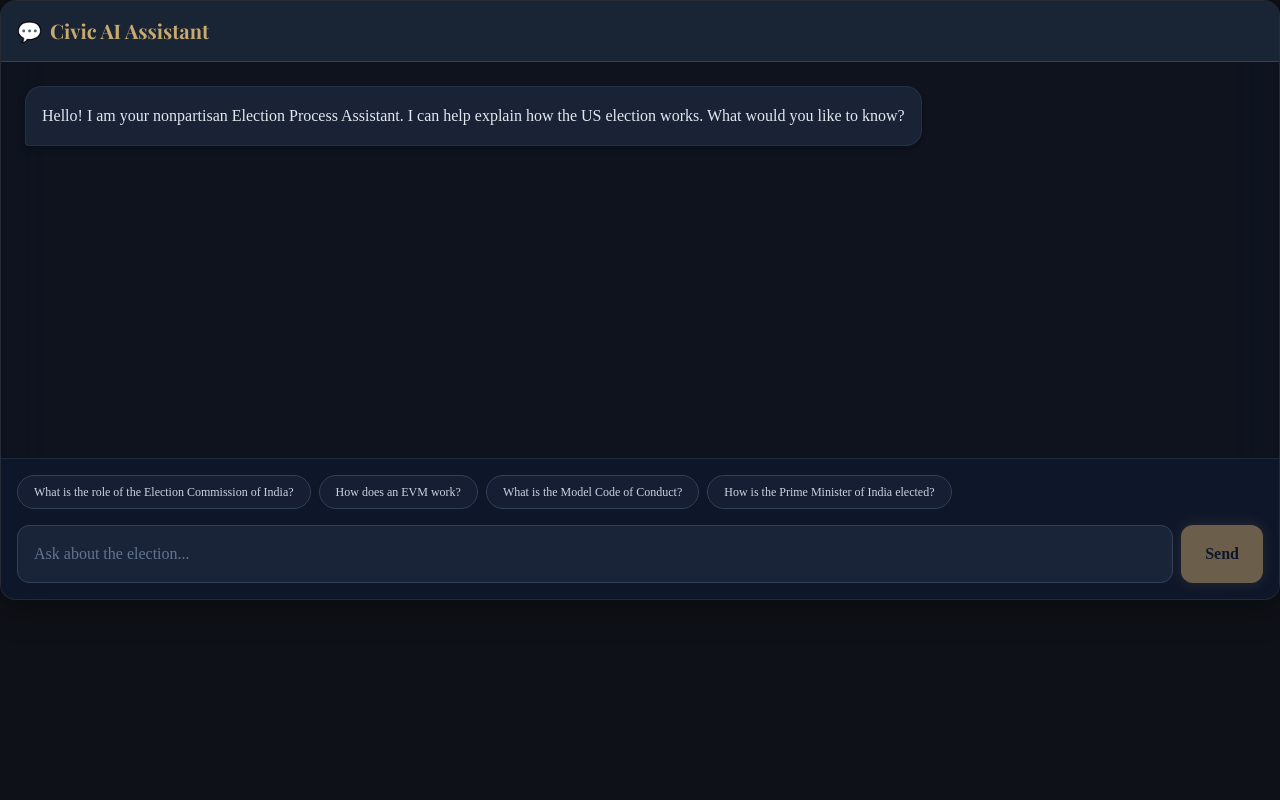
Test: Chat Component › sends a message when Send button is clicked
In the field with placeholder "Ask about the election...": (595, 554) [17, 525, 1173, 583], type "How does it work?"
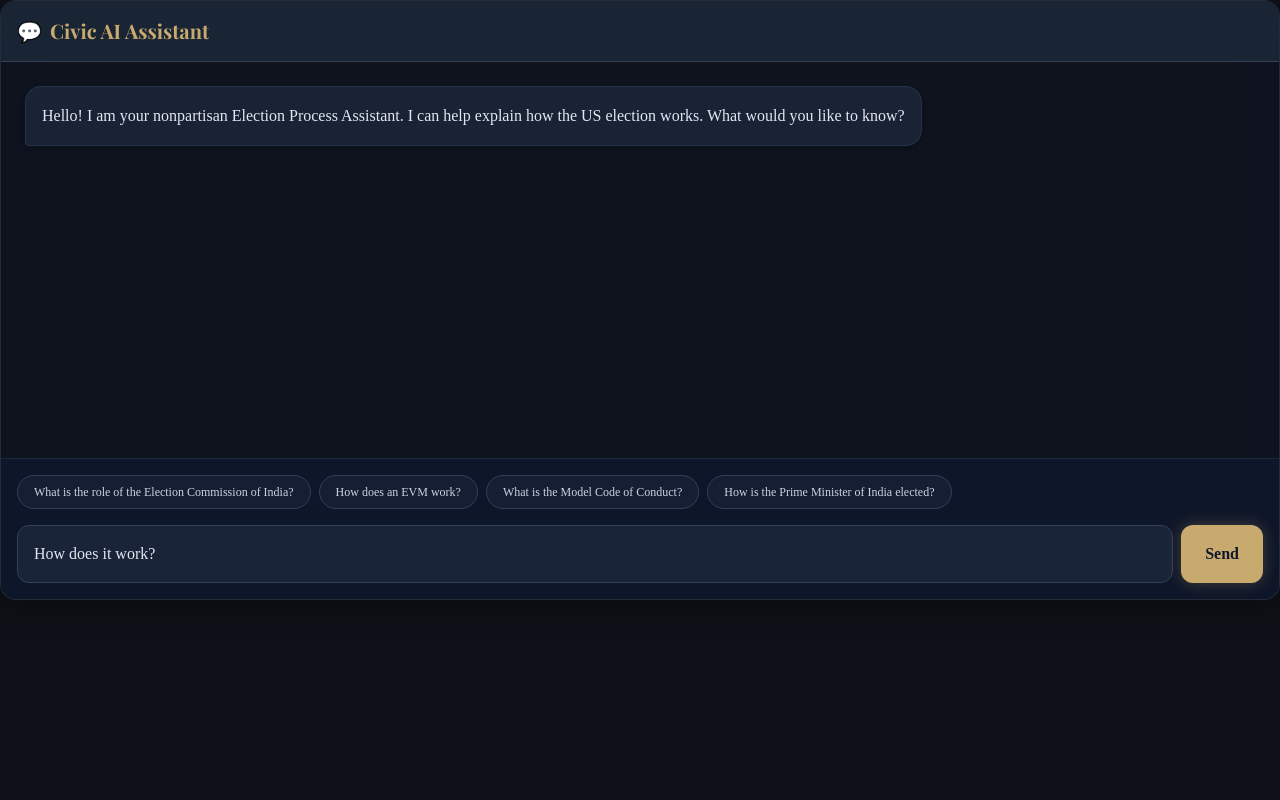
Click the button with aria-label "Send message": click(1222, 554) [1181, 525, 1263, 583]
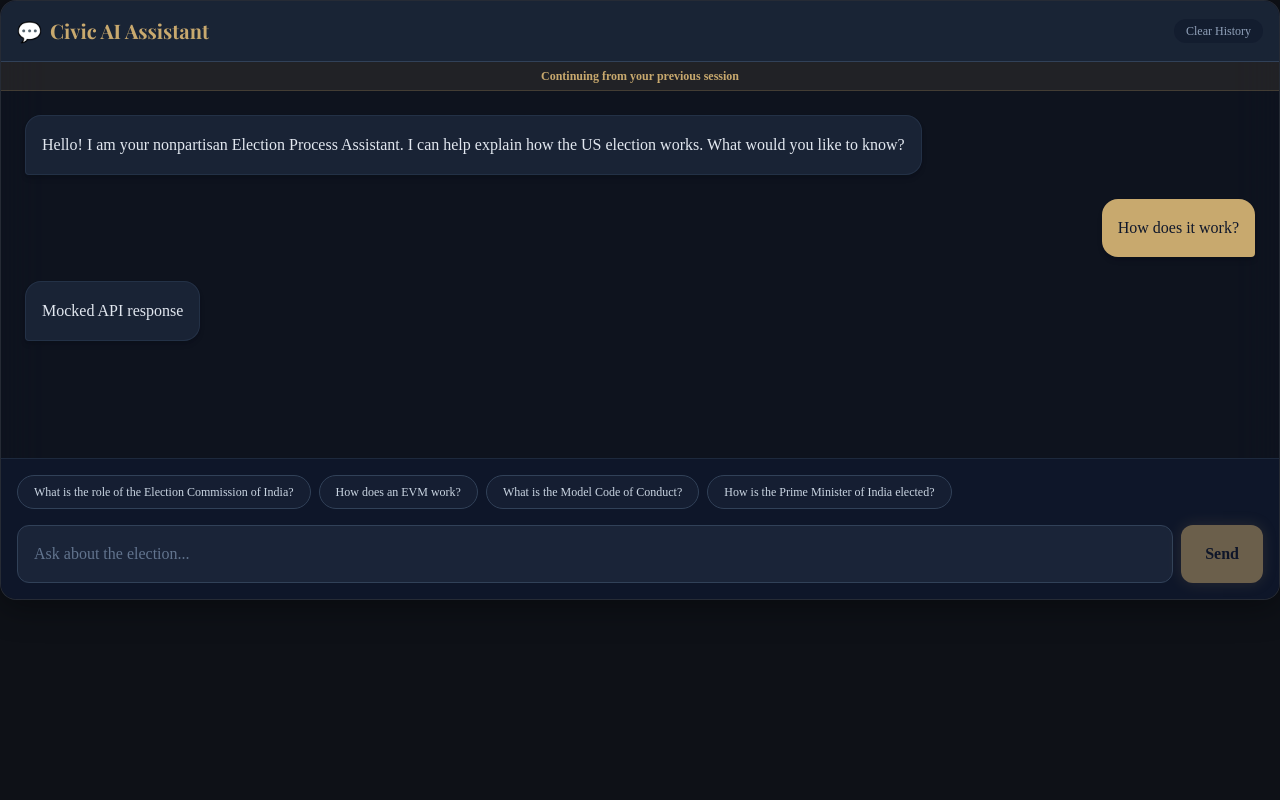
Expected: the text "How does it work?" is shown, [1102, 199, 1255, 257]
Expected: the text "Mocked API response" is shown, [25, 281, 200, 341]
